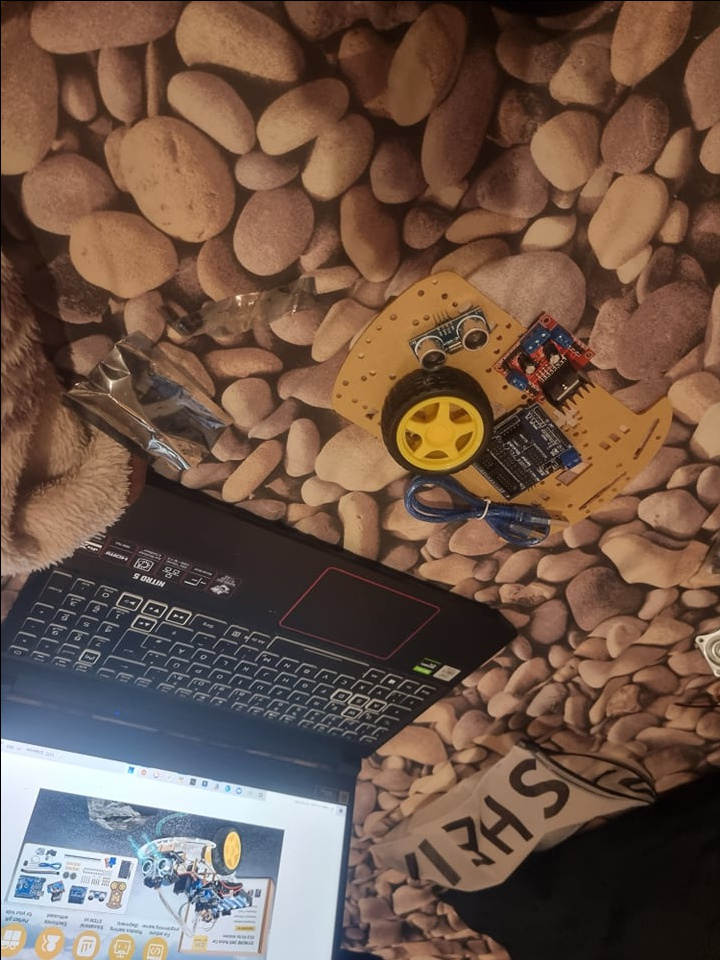5V EXPANSION: (473, 402, 579, 503)
MOTOR: (495, 307, 598, 414)
SENSOR: (408, 309, 496, 368), (137, 853, 176, 876), (83, 888, 103, 903)
UNO R3: (15, 872, 43, 902)
